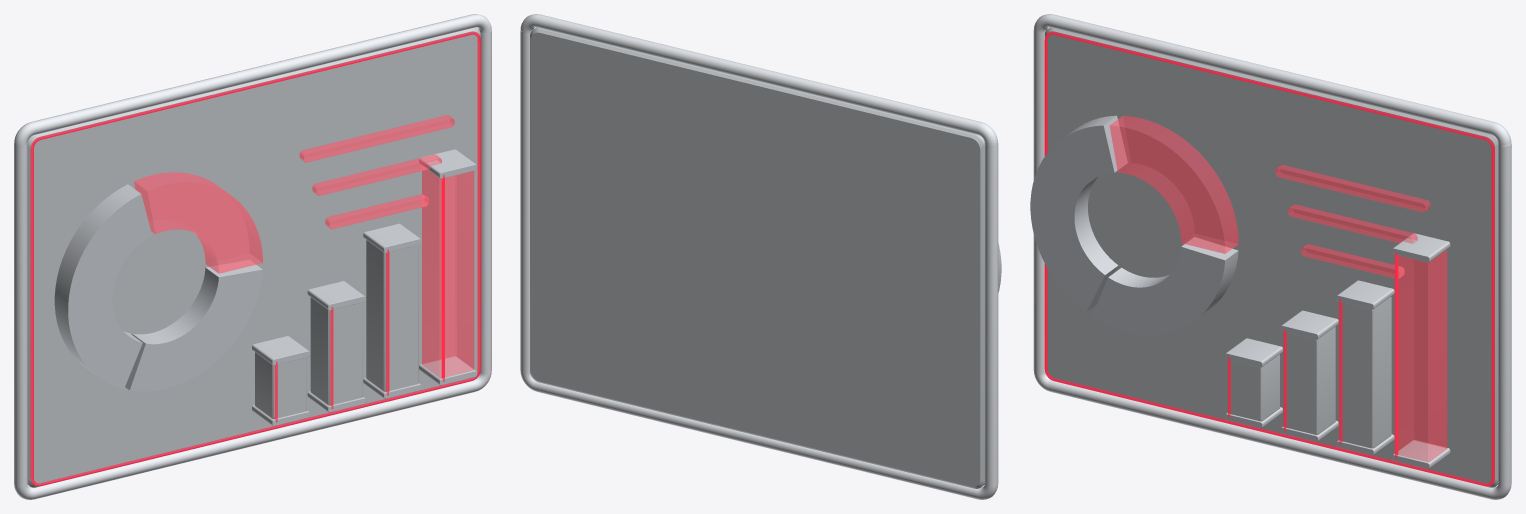
File: 09-dashboard.glb
3 views of the same model, side by side, from view 1: azimuth 30°, elevation 25°; view 2: azimuth 150°, elevation 25°; view 3: azimuth 330°, elevation 25° (orthographic).
Parts seen in each view (by area): view 1: BC clear optical glass, BC satin silver metal, BC ruby optical glass, BC polished silver metal, BC neon red glass edge; view 2: BC clear optical glass, BC polished silver metal; view 3: BC clear optical glass, BC satin silver metal, BC ruby optical glass, BC polished silver metal, BC neon red glass edge.
Boxes of the visible parts, bbox=[...] form: BC clear optical glass: bbox=[27, 27, 480, 487]; BC satin silver metal: bbox=[54, 149, 477, 425]; BC ruby optical glass: bbox=[134, 115, 474, 377]; BC polished silver metal: bbox=[14, 14, 491, 499]; BC neon red glass edge: bbox=[30, 31, 480, 486]; BC clear optical glass: bbox=[530, 27, 984, 488]; BC polished silver metal: bbox=[520, 14, 998, 499]; BC clear optical glass: bbox=[1045, 27, 1497, 487]; BC satin silver metal: bbox=[1030, 115, 1450, 469]; BC ruby optical glass: bbox=[1110, 115, 1447, 461]; BC polished silver metal: bbox=[1033, 14, 1511, 499]; BC neon red glass edge: bbox=[1044, 31, 1494, 486].
Bounding box in the file's own units: 2.05 × 1.55 × 0.2812.
